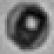correct: (4, 2, 54, 48)
